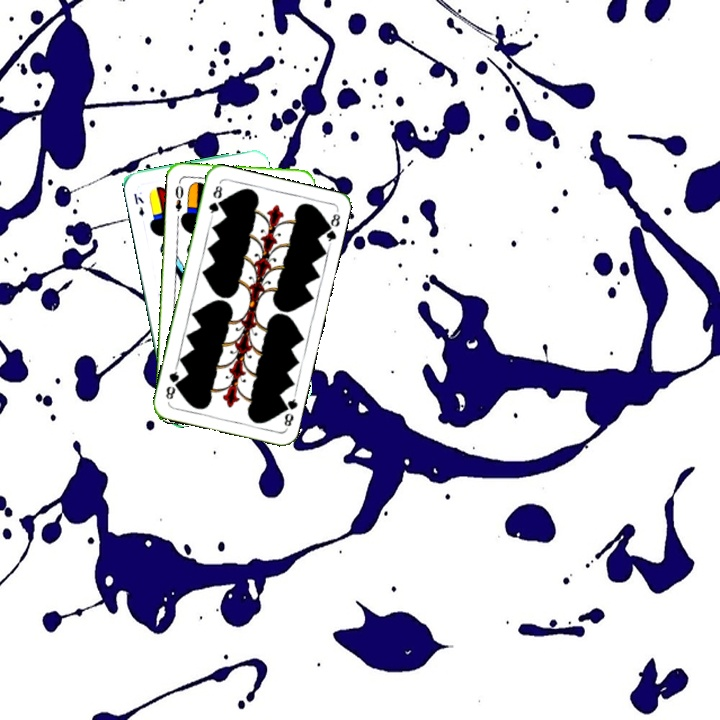EK: (129, 189, 147, 219)
EO: (171, 181, 186, 214)
G8: (278, 391, 300, 431), (204, 181, 225, 220)
